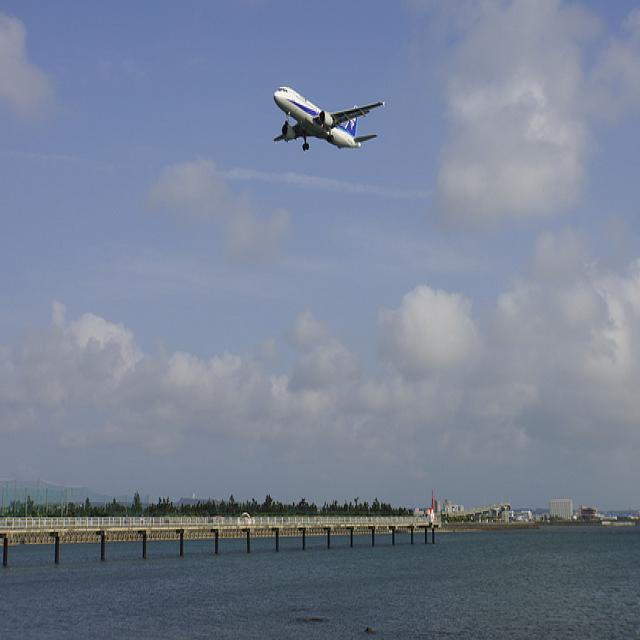airplane: (271, 82, 387, 153)
